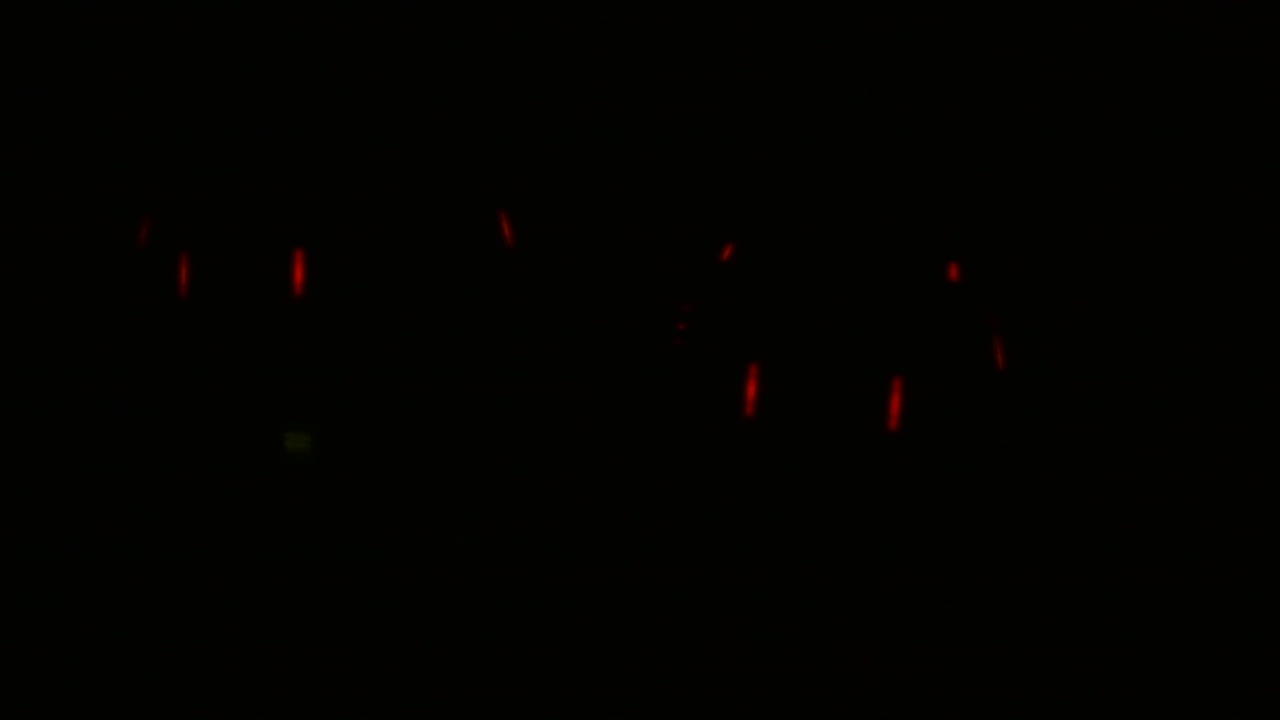pair1: (736, 356, 904, 439), (167, 244, 307, 300)
